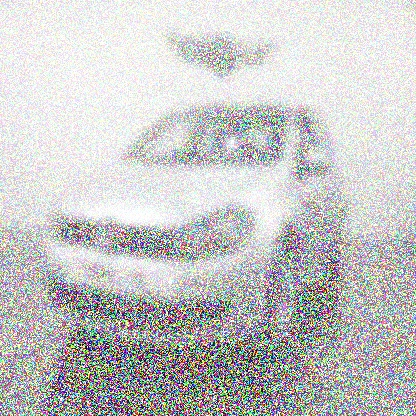Vehicle: (36, 99, 354, 345)
